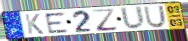2: (72, 9, 95, 34)
E: (43, 11, 70, 35)
K: (24, 13, 46, 35)
U: (119, 5, 147, 31), (143, 4, 167, 29)
Z: (91, 8, 120, 32)
